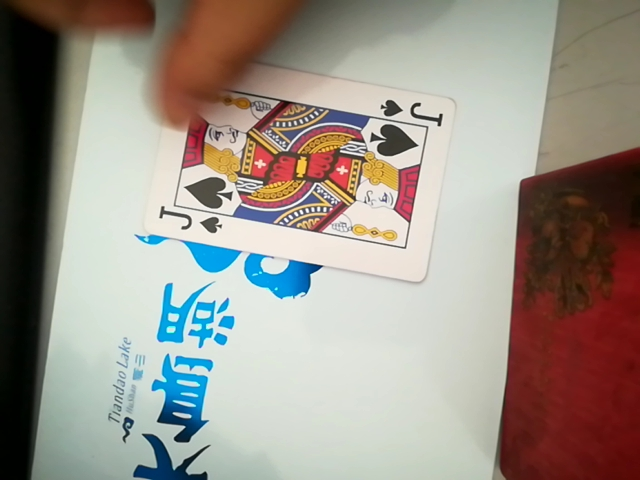ht j: (144, 51, 462, 278)
